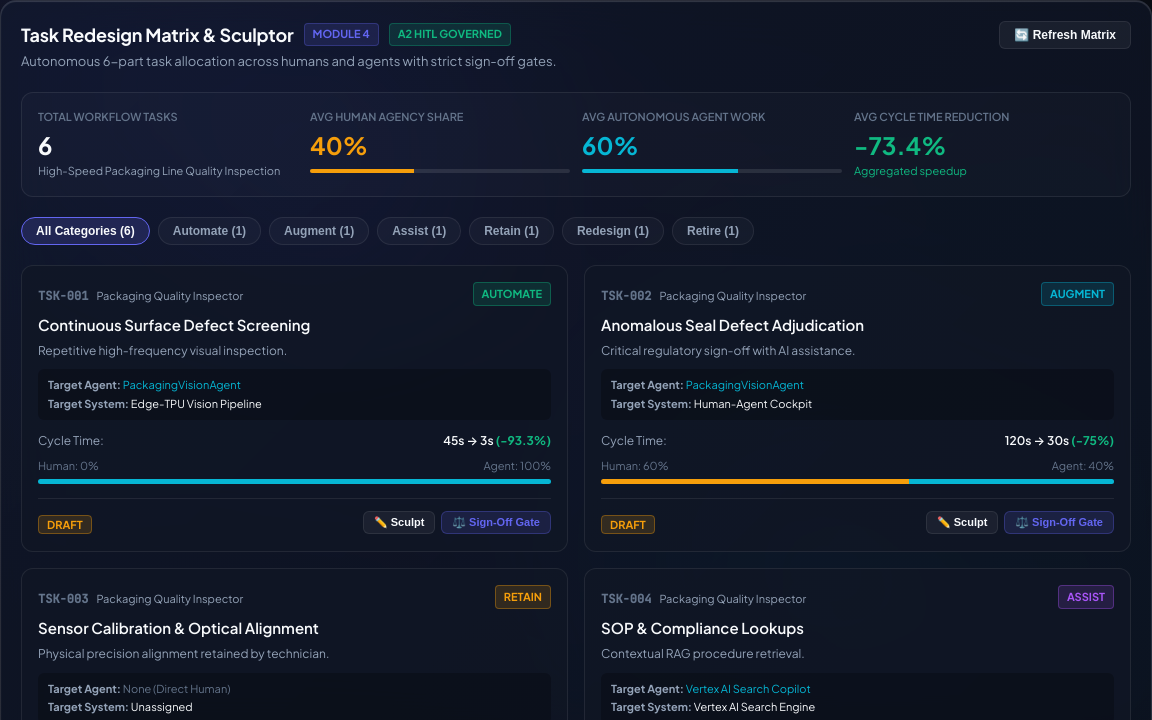
Scenario: TaskSculptor Component › filters task cards by 6-part transformation taxonomy
The image size is (1152, 720).
Check: the heading "Continuous Surface Defect Screening" is shown, box [38,315,310,334]
Note: Click on RETAIN filter
Click the tab "Retain (1)" at x=512, y=230, box [469,216,554,244]
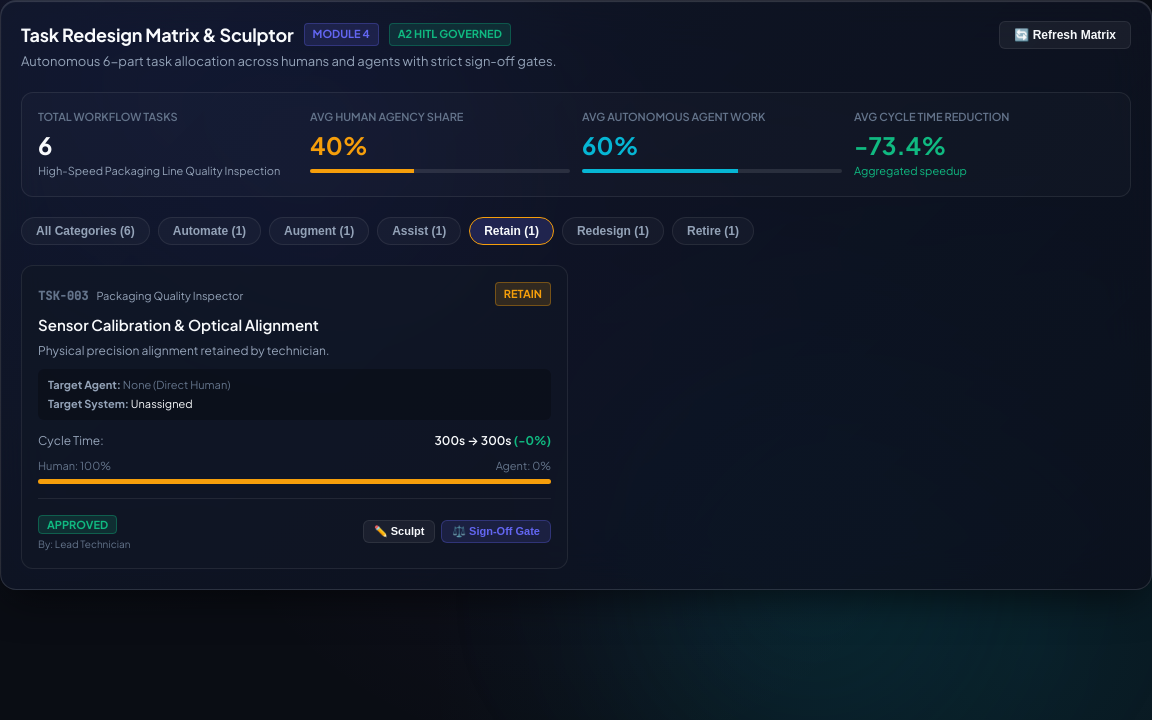
Check: the heading "Sensor Calibration & Optical Alignment" is shown, box [38,315,319,334]
Check: the heading "Continuous Surface Defect Screening" is gone
Note: Click on ALL tab
Click the tab "All Categories (6)" at x=85, y=230, box [21,216,150,244]
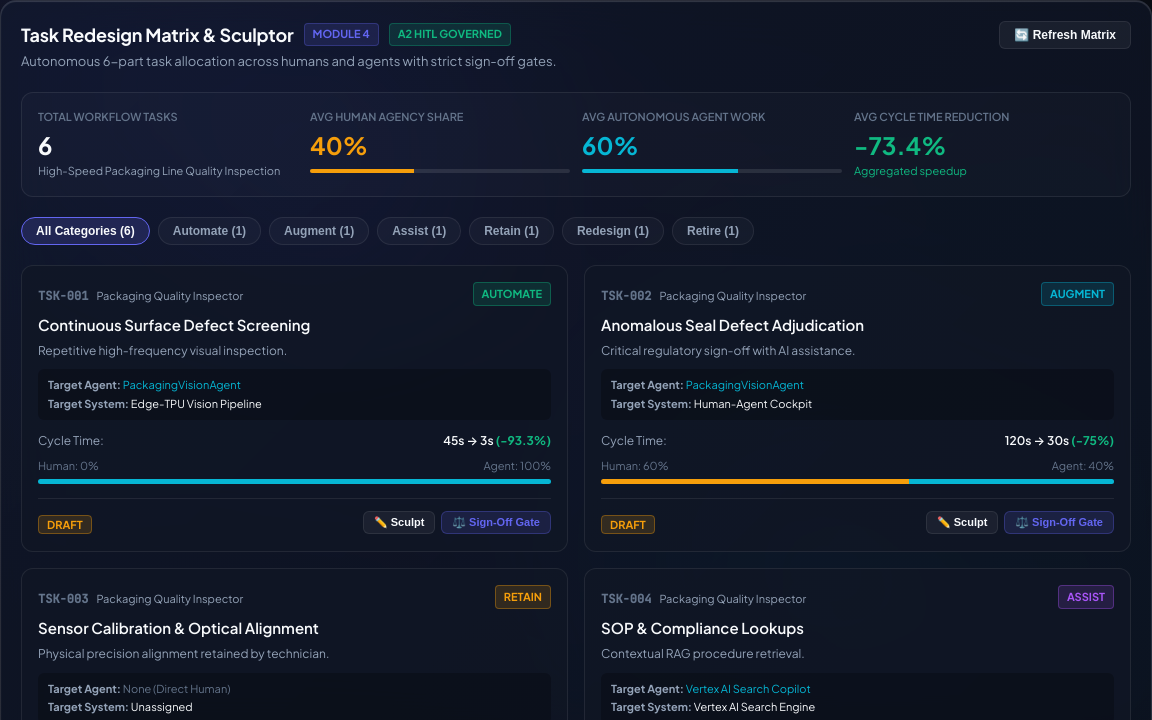
Check: the heading "Continuous Surface Defect Screening" is shown, box [38,315,310,334]
